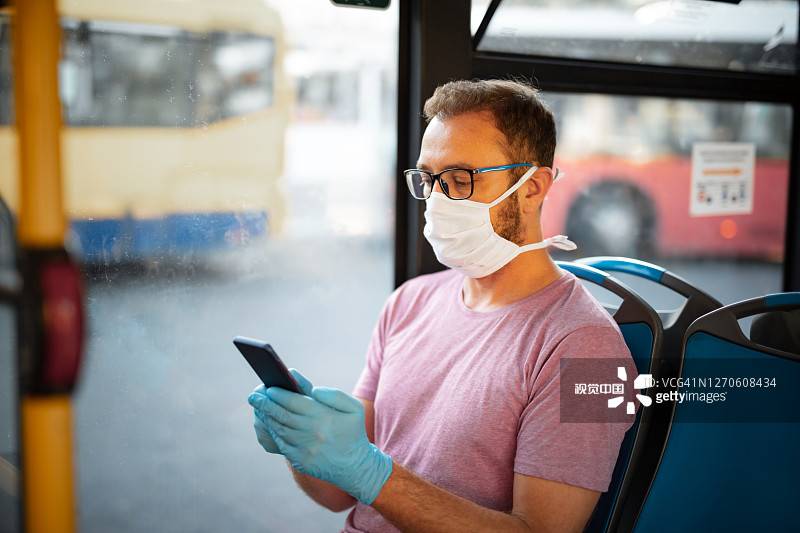reading: (212, 322, 414, 502)
